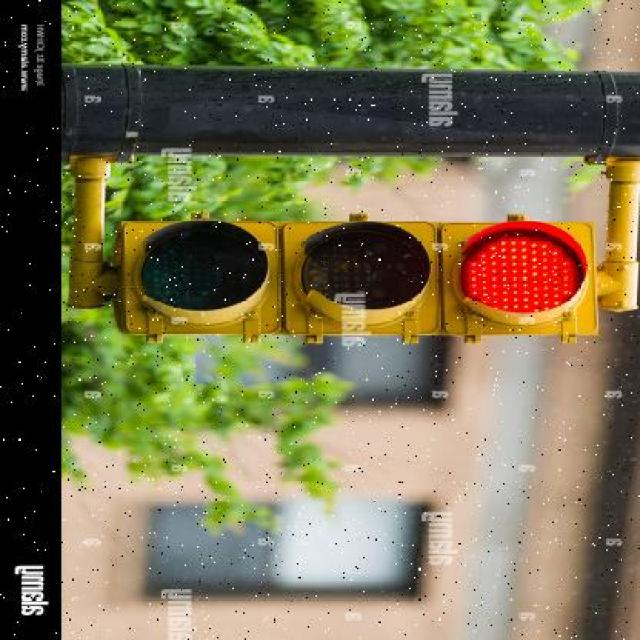red-light: (110, 195, 600, 352)
